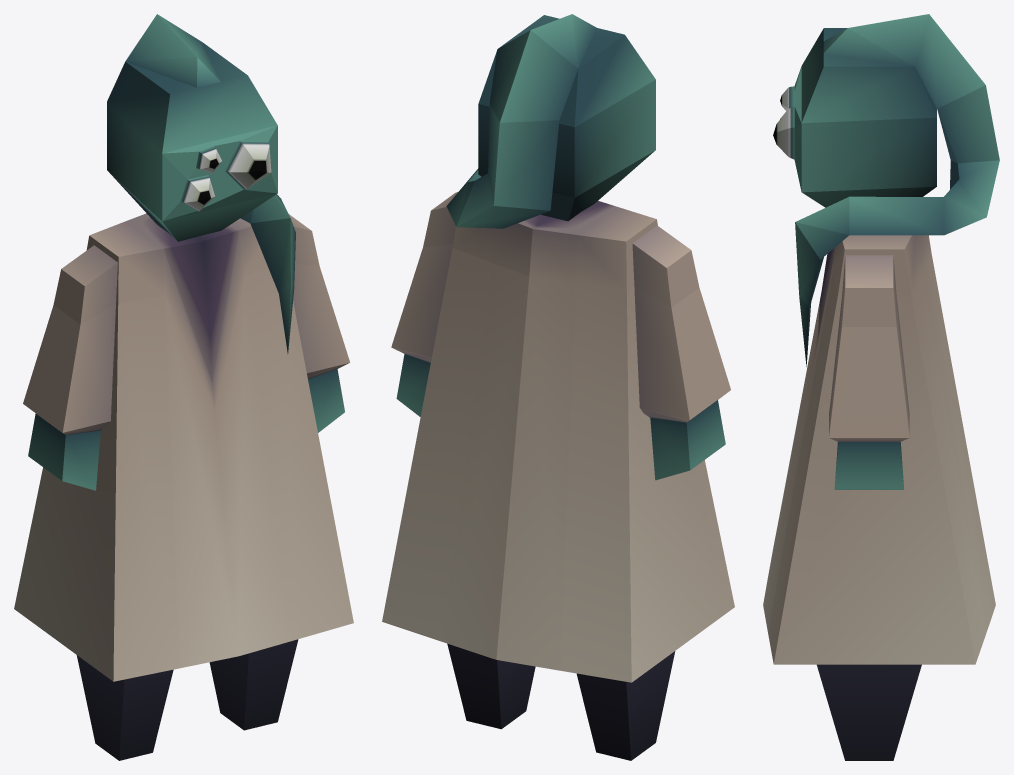
File: kids_female_L.obj
3 views of the same model, side by side, from view 1: azimuth 30°, elevation 25°; view 2: azimuth 150°, elevation 25°; view 3: azimuth 270°, elevation 25° (orthographic). The views are drawn at different scales.
Parts seen in each view (by area): view 1: kid_body_F_L.002, kid_body_F_L_head.002, kid_body_Arm_Right.002, kid_body_Arm_Left.003, kid_body_Feet_Right.004, kid_body_Feet_Left.004; view 2: kid_body_F_L.002, kid_body_F_L_head.002, kid_body_Arm_Right.002, kid_body_Arm_Left.003, kid_body_Feet_Right.004, kid_body_Feet_Left.004; view 3: kid_body_F_L.002, kid_body_F_L_head.002, kid_body_Arm_Left.003, kid_body_Feet_Left.004.
Part boxes in pixels (bbox=[...]): kid_body_F_L.002: bbox=[14, 213, 353, 681]; kid_body_F_L_head.002: bbox=[107, 14, 295, 353]; kid_body_Arm_Right.002: bbox=[23, 245, 117, 490]; kid_body_Arm_Left.003: bbox=[289, 214, 349, 432]; kid_body_Feet_Right.004: bbox=[76, 655, 173, 760]; kid_body_Feet_Left.004: bbox=[209, 639, 298, 730]; kid_body_F_L.002: bbox=[382, 201, 734, 682]; kid_body_F_L_head.002: bbox=[446, 14, 655, 228]; kid_body_Arm_Right.002: bbox=[632, 225, 730, 480]; kid_body_Arm_Left.003: bbox=[391, 192, 457, 416]; kid_body_Feet_Right.004: bbox=[576, 651, 675, 760]; kid_body_Feet_Left.004: bbox=[447, 643, 535, 729]; kid_body_F_L.002: bbox=[763, 235, 995, 664]; kid_body_F_L_head.002: bbox=[773, 14, 999, 366]; kid_body_Arm_Left.003: bbox=[829, 255, 909, 489]; kid_body_Feet_Left.004: bbox=[817, 664, 921, 760].
Size of the model in its own units: 3.17 by 7.35 by 2.23.
